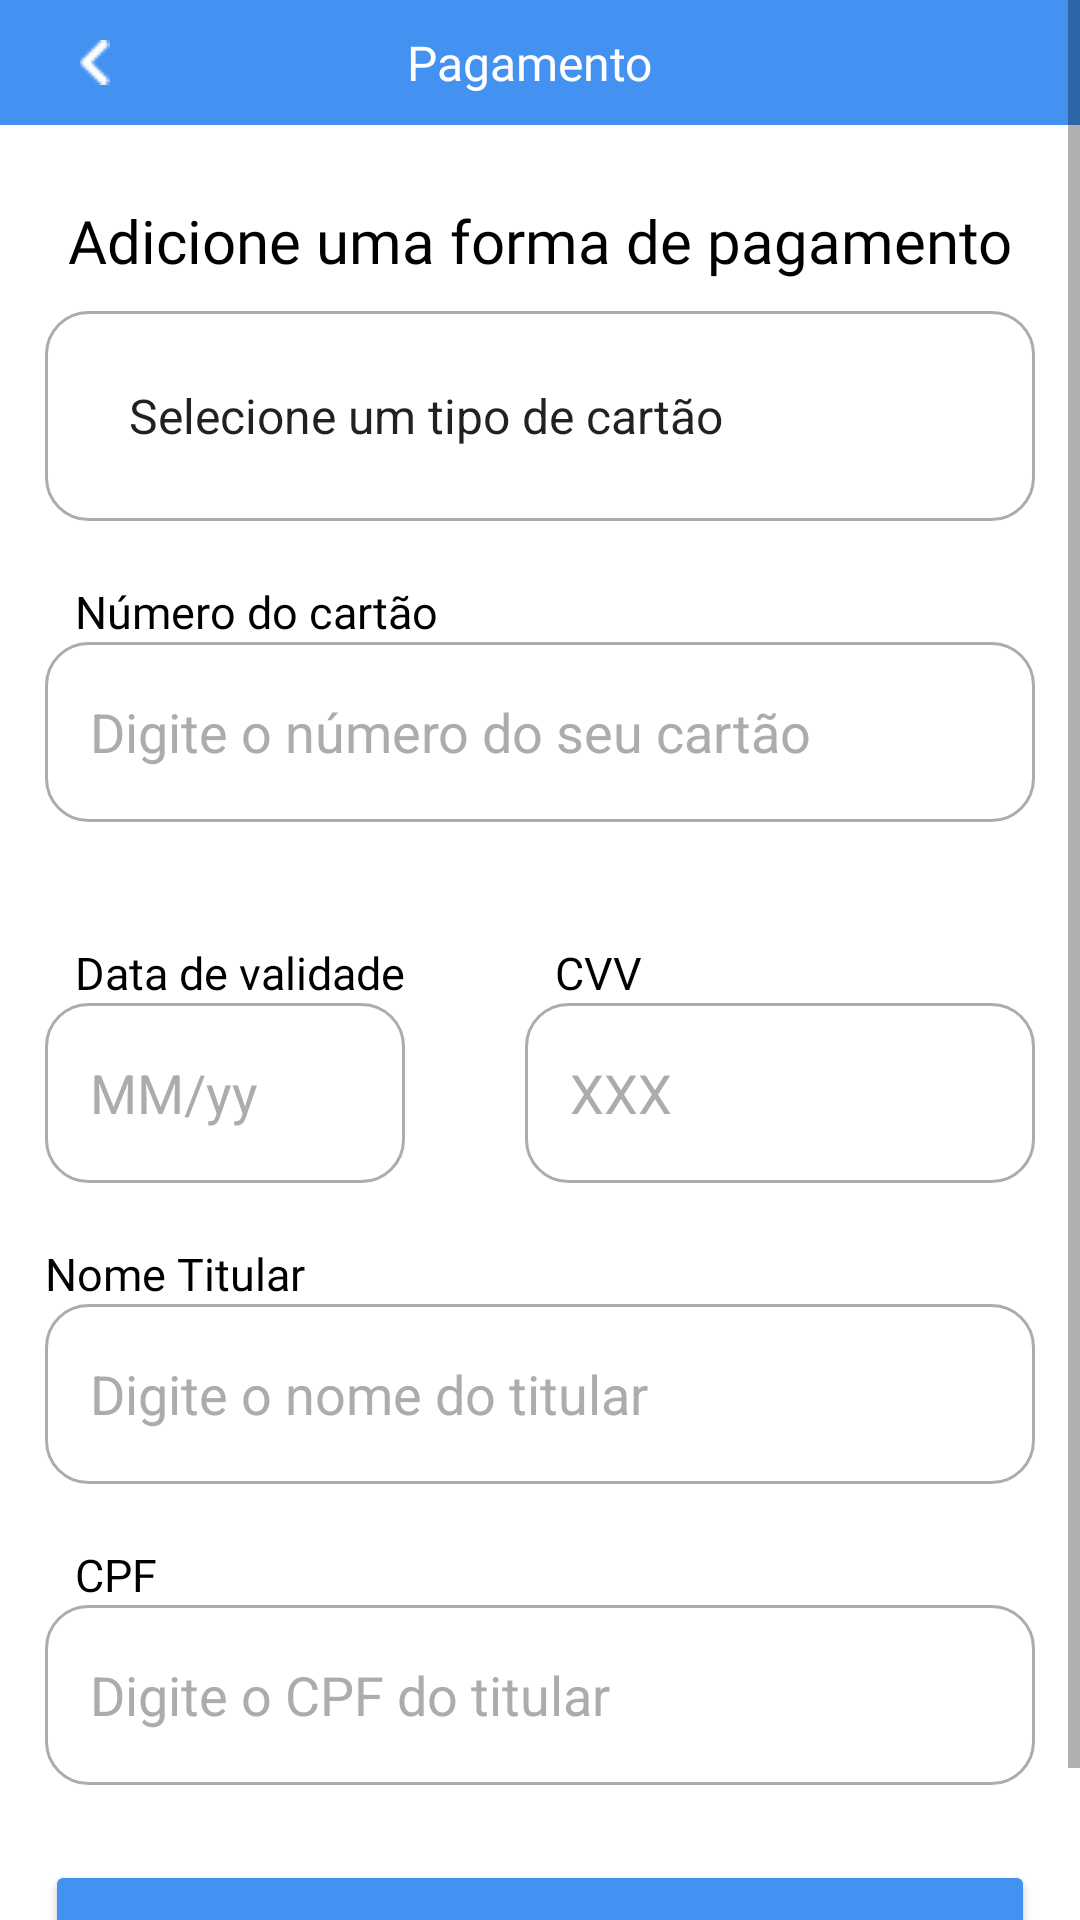

Where icons sit on this 1080w x 1920h app screen, as {"left": x1, "top": y1, "right": x2, "bottom": y2}:
voltar anuncio: {"left": 80, "top": 40, "right": 110, "bottom": 85}
